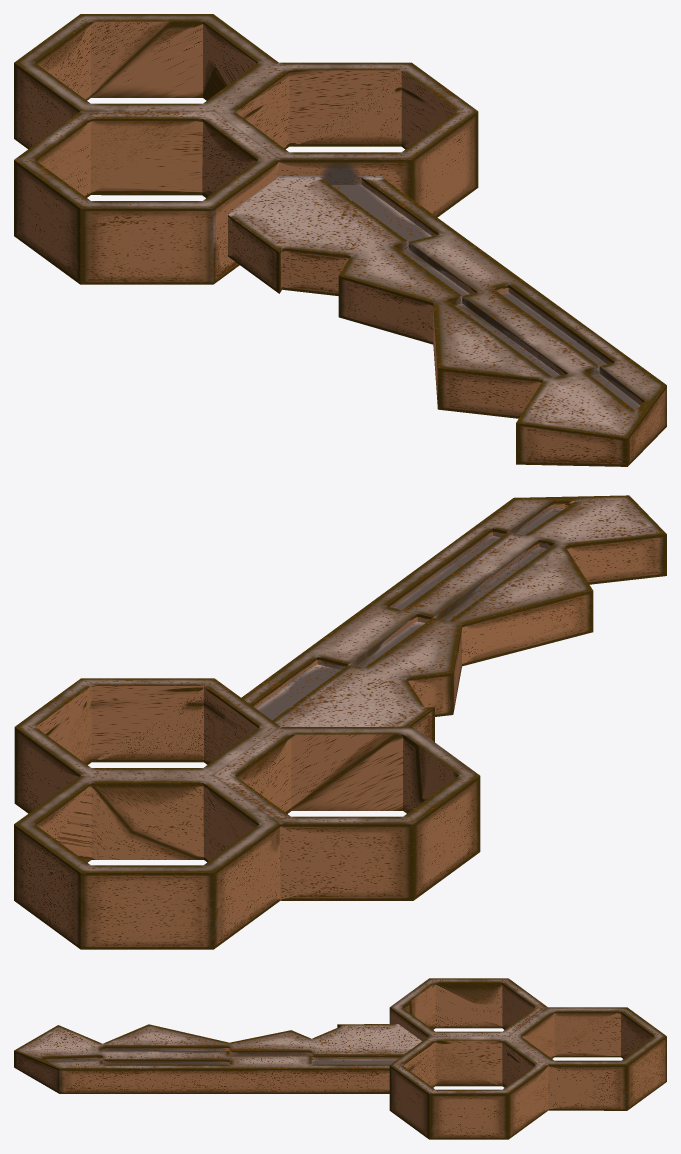
The model's file is Key.fbx.
3 views of the same model, one above another, from view 1: azimuth 30°, elevation 25°; view 2: azimuth 150°, elevation 25°; view 3: azimuth 270°, elevation 25° (orthographic). The views are drawn at different scales.
Parts seen in each view (by area): view 1: Low; view 2: Low; view 3: Low.
Boxes of the visible parts, bbox=[...] form: Low: bbox=[14, 14, 666, 466]; Low: bbox=[14, 495, 666, 949]; Low: bbox=[14, 978, 666, 1139].
Bounding box in the file's own units: 398 × 73.05 × 949.
